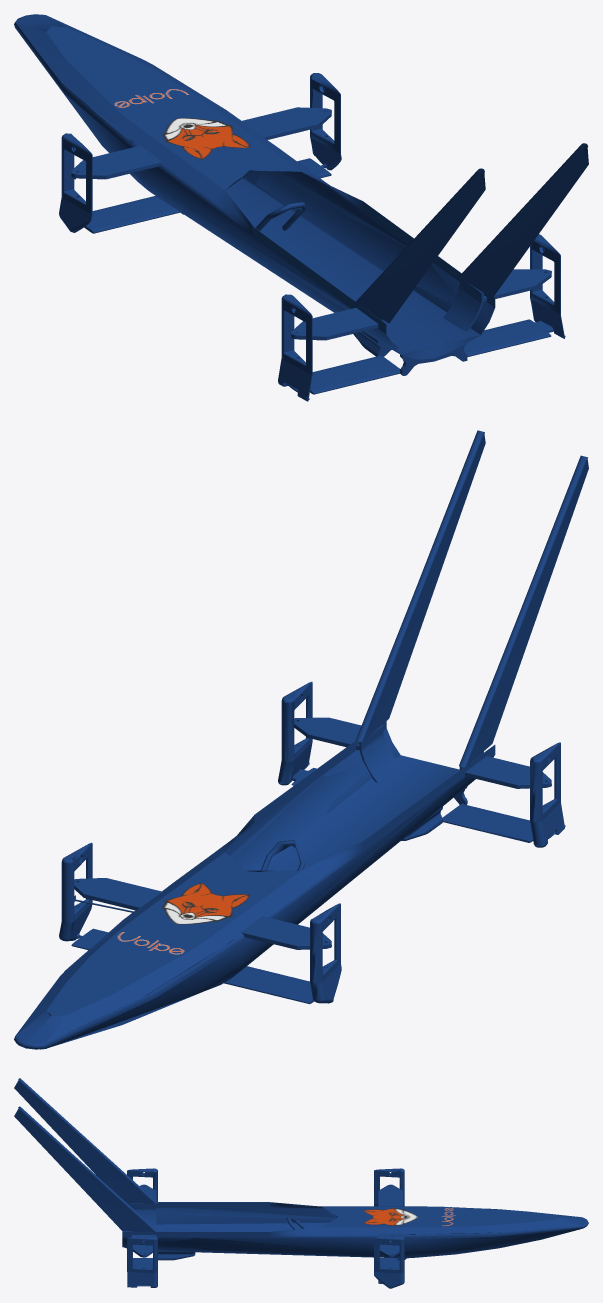
The model's file is carreraCenteredNoRuoteTextured.obj.
The picture shows the model from 3 angles, top to bottom: view 1: azimuth 30°, elevation 25°; view 2: azimuth 150°, elevation 25°; view 3: azimuth 270°, elevation 25°; orthographic projection. The views are drawn at different scales.
Visible parts, largest first — view 1: Geometry; view 2: Geometry; view 3: Geometry.
Part boxes in pixels (x1,y1,x2,y2): Geometry: (14,14,588,401); Geometry: (14,430,588,1049); Geometry: (14,1078,588,1288).
Size of the model in its own units: 1.04 by 1.07 by 3.46.
1 material, 1 textured.
